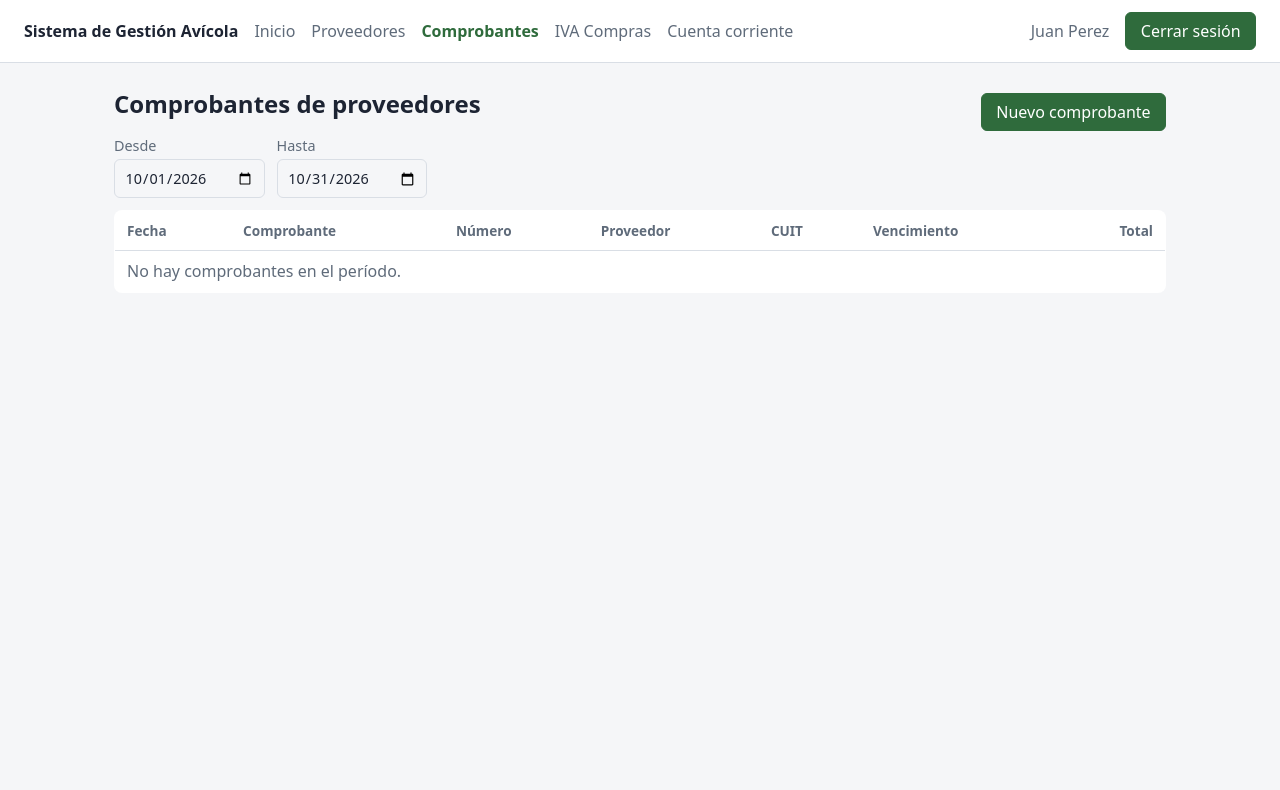
Test: VouchersPage › hides VAT fields for B and C vouchers
The width and height of the screenshot is (1280, 790).
Click the button "Nuevo comprobante": point(1073, 112) left=981, top=93, right=1166, bottom=131
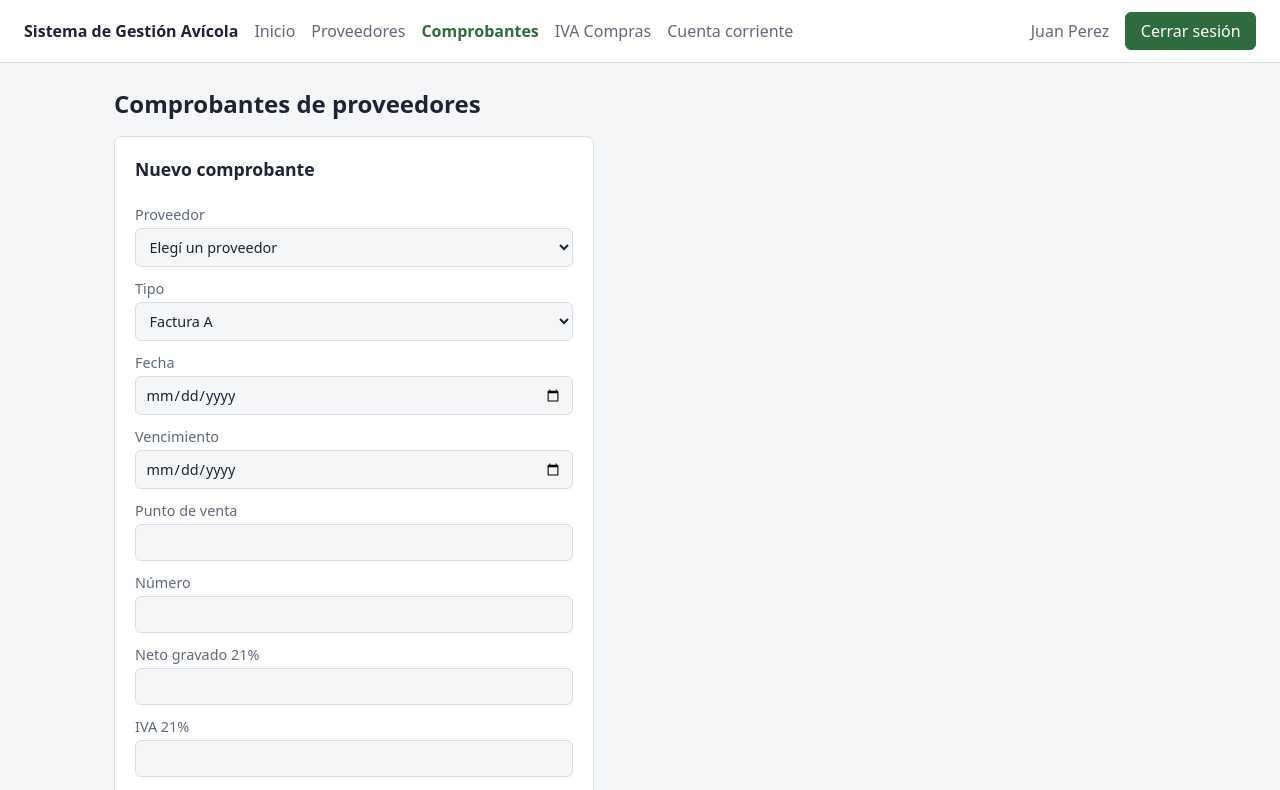
Check: the dropdown labelled "Proveedor" is shown, box left=135, top=228, right=573, bottom=267
Select "Factura C" in the dropdown labelled "Tipo": point(354, 322) left=135, top=302, right=573, bottom=341
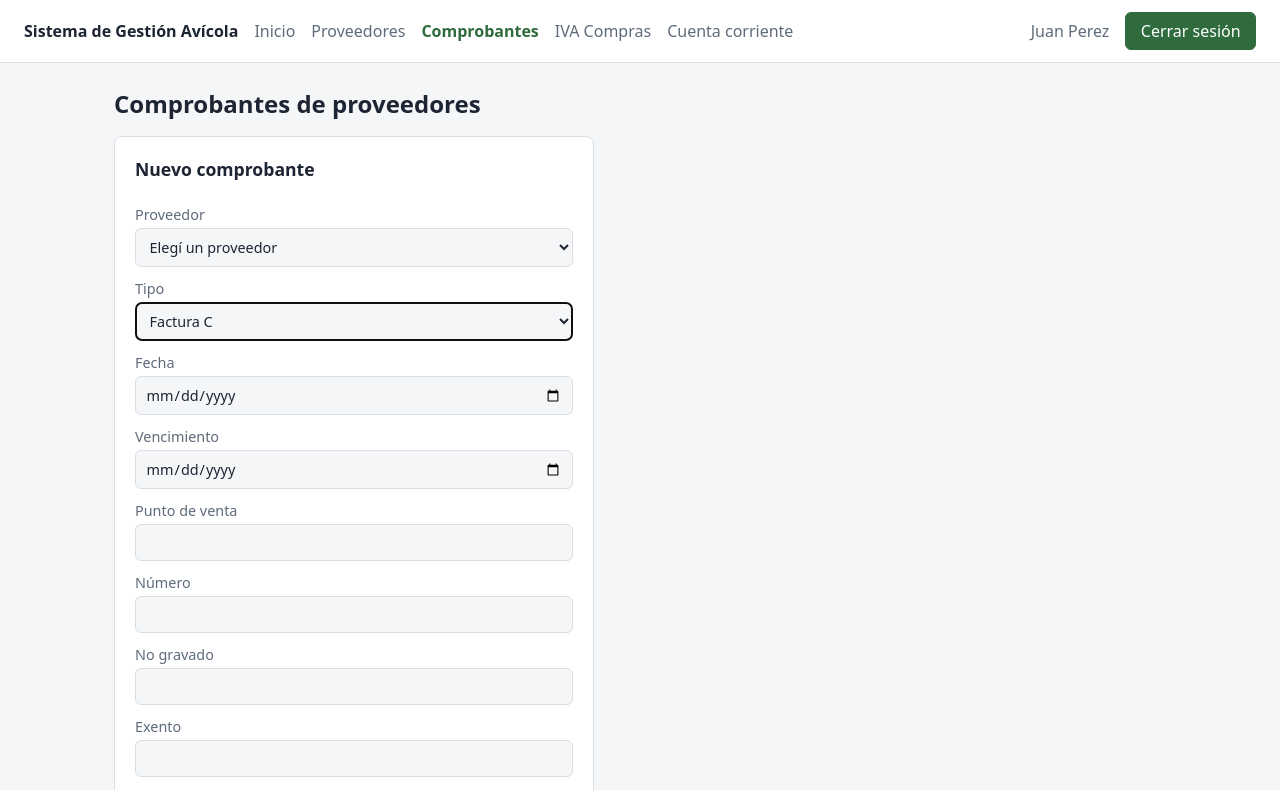
Check: the number field labelled "No gravado" is shown, box left=135, top=668, right=573, bottom=705
Check: the label labelled "Neto gravado 21%" is gone
Check: the label labelled "IVA 21%" is gone
